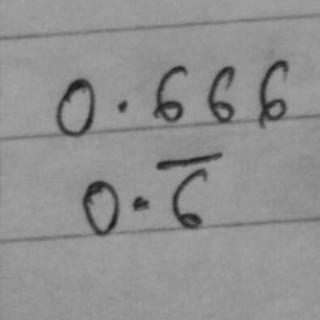.: (130, 193, 151, 214), (113, 98, 131, 114)
0: (52, 79, 98, 138), (80, 177, 124, 237)
6: (166, 169, 215, 229), (256, 57, 297, 126), (151, 61, 189, 124), (205, 64, 239, 123)
